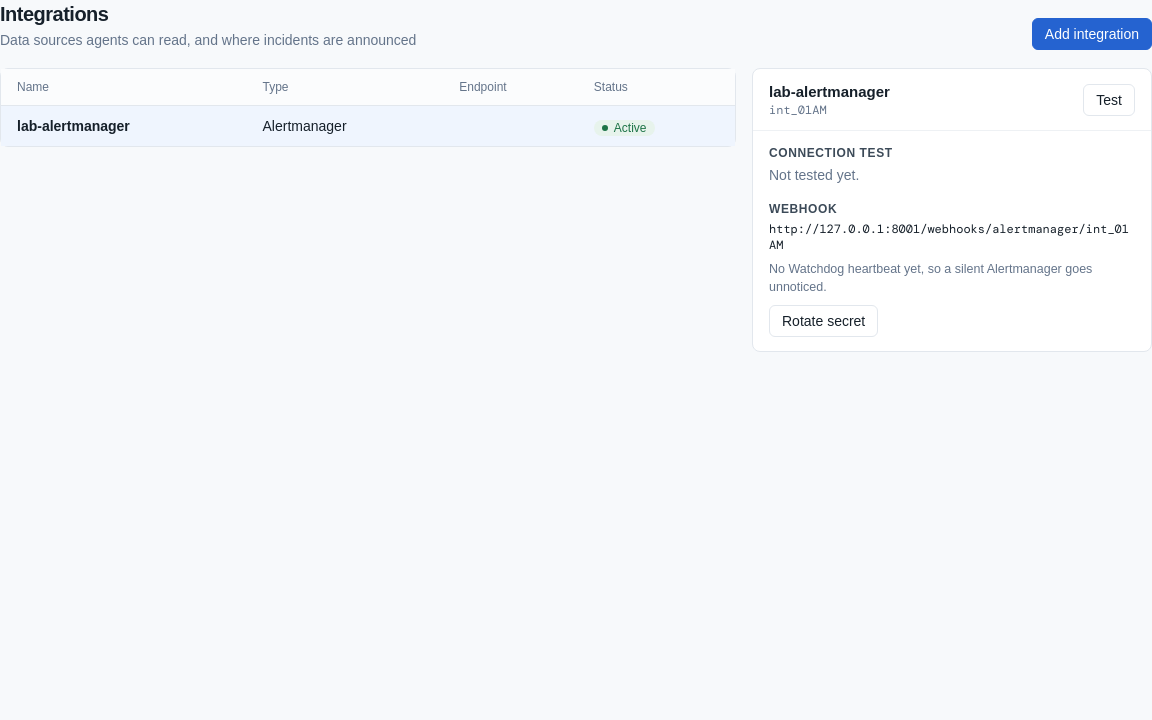
Test case: rotating asks first, then shows the new secret
Expected: the text "http://127.0.0.1:8001/webhooks/alertmanager/int_01AM" is shown, x1=769 y1=221 x2=1135 y2=253
Click the button "Rotate secret".
click(824, 321)  # box x1=769 y1=305 x2=878 y2=337
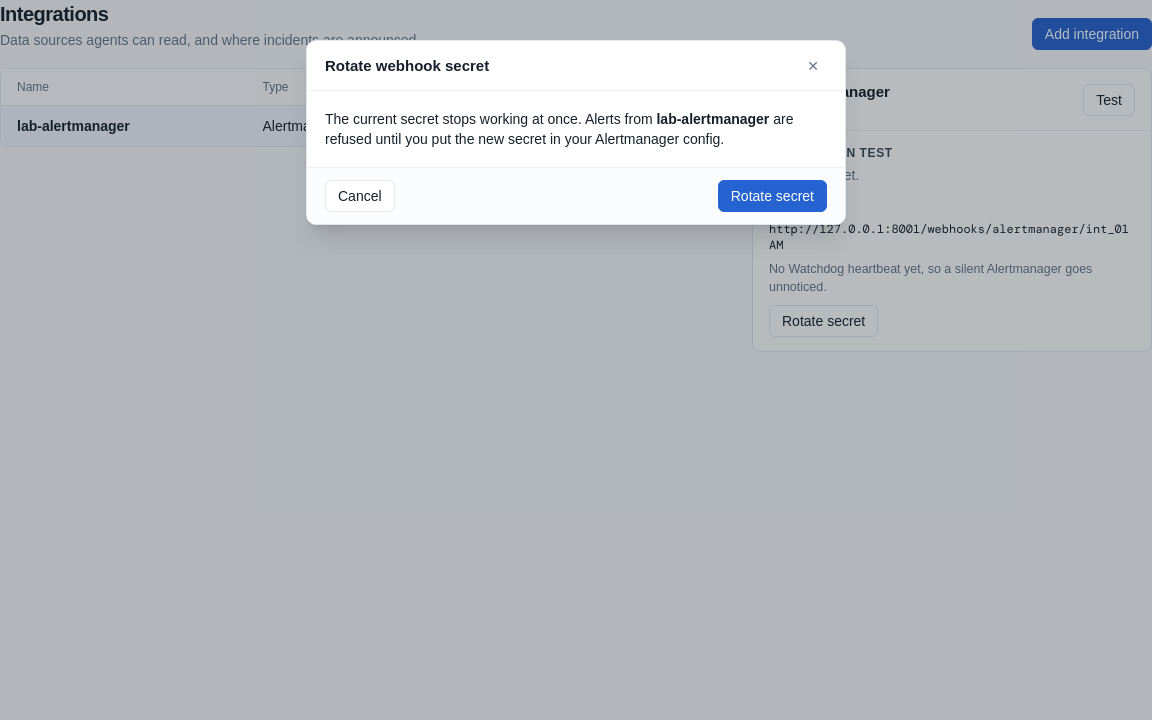
Click the button "Rotate secret".
click(772, 196)  # box x1=718 y1=180 x2=827 y2=212
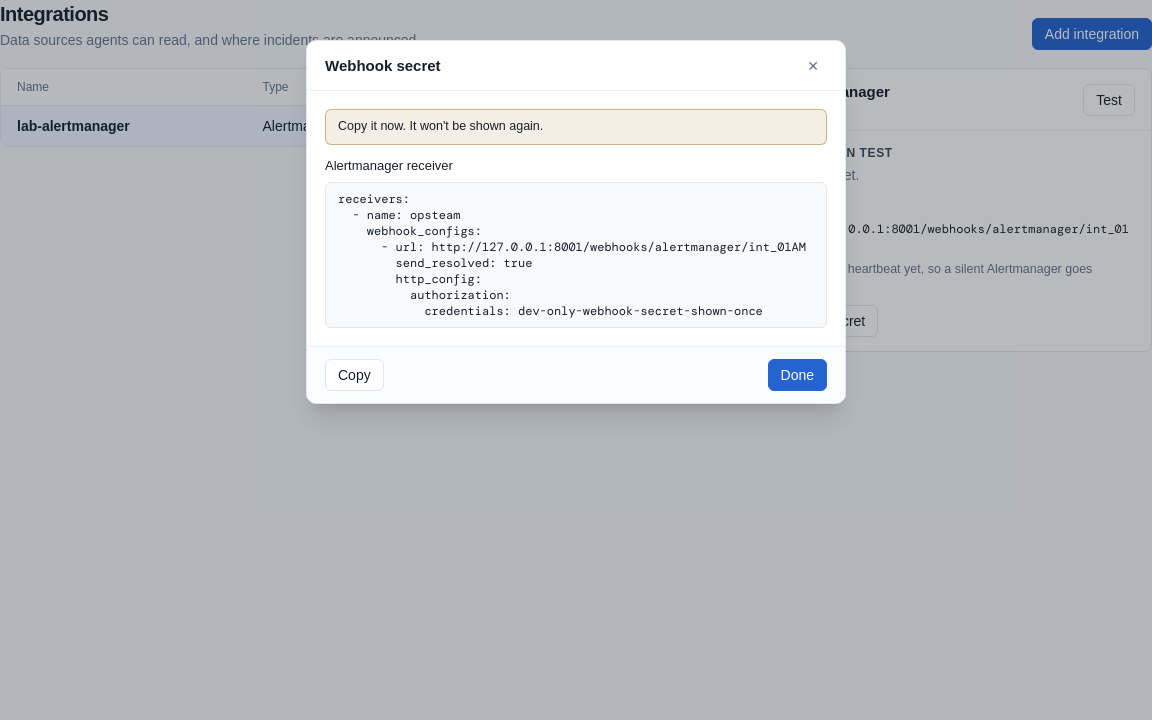
Now the text named "Alertmanager receiver" shows "dev-only-webhook-secret-shown-once", box x1=338 y1=191 x2=806 y2=319
